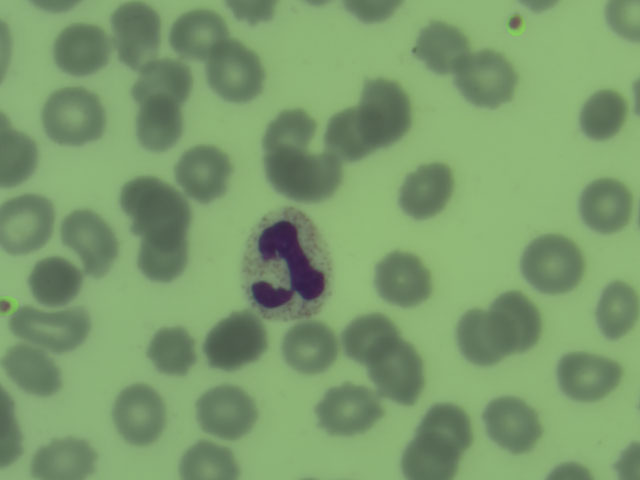Platelets: (504, 10, 530, 43), (1, 292, 19, 322)
RBC: (30, 431, 94, 479), (177, 433, 242, 480), (400, 163, 454, 218), (113, 385, 167, 440), (143, 324, 197, 379), (377, 252, 431, 307), (525, 234, 579, 289), (578, 177, 632, 232), (576, 88, 630, 143), (356, 79, 410, 134), (321, 108, 375, 163), (459, 49, 513, 104), (413, 21, 467, 76), (278, 147, 332, 202), (263, 105, 317, 160), (177, 147, 231, 202), (135, 228, 189, 283), (128, 176, 182, 231), (2, 344, 56, 399), (30, 252, 84, 307), (46, 87, 100, 142), (211, 44, 265, 99), (170, 7, 224, 62), (133, 56, 187, 111), (111, 5, 165, 60), (53, 23, 107, 78), (491, 288, 545, 343), (455, 309, 509, 364), (586, 286, 640, 341), (560, 350, 614, 405), (486, 396, 540, 451), (420, 399, 474, 454), (373, 345, 427, 400), (342, 313, 396, 368), (321, 381, 375, 436), (282, 318, 336, 373), (200, 382, 254, 437), (207, 312, 261, 367), (1, 197, 54, 252), (134, 96, 188, 149), (13, 308, 89, 345), (404, 430, 458, 480), (69, 203, 107, 270), (1, 127, 38, 192), (342, 1, 410, 29), (1, 393, 27, 463), (601, 1, 640, 44), (225, 1, 282, 25)
WBC: (240, 206, 330, 320)
